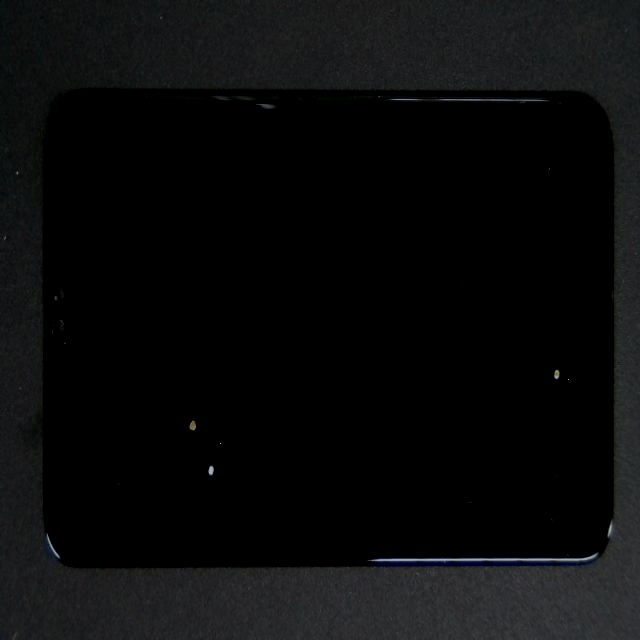stain: (263, 164, 640, 586), (86, 225, 299, 640), (103, 165, 277, 582)
